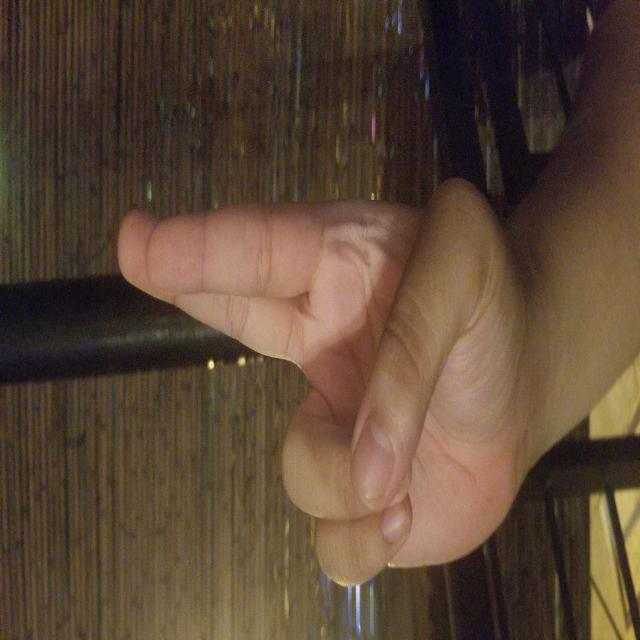R: (50, 115, 468, 522)
